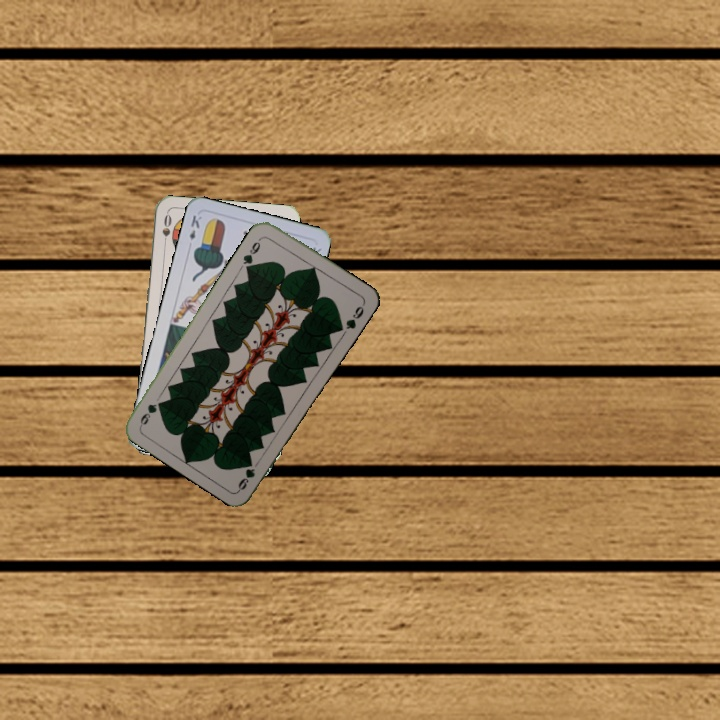EK: (185, 211, 204, 242)
G9: (239, 233, 265, 271), (234, 457, 257, 493)
SO: (159, 210, 174, 251)
